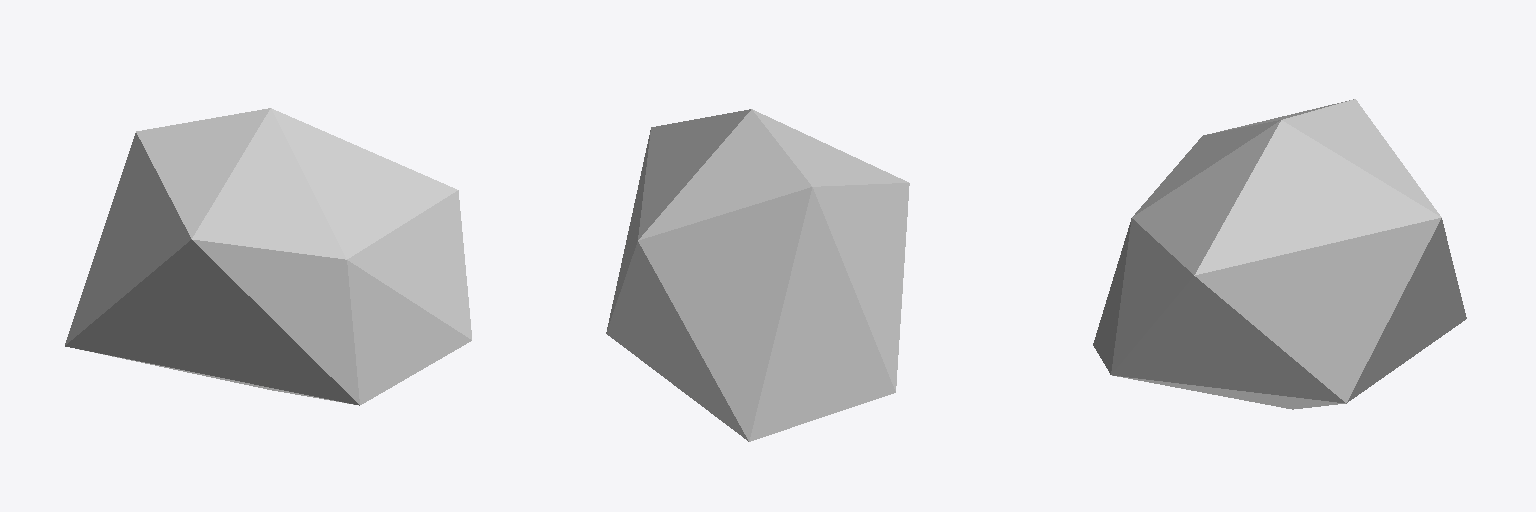
Rendered from rocksmall.obj.
3 renders of one model, left to right at view 1: azimuth 30°, elevation 25°; view 2: azimuth 150°, elevation 25°; view 3: azimuth 270°, elevation 25°, orthographic.
Visible parts, largest first — view 1: Icosphere_Icosphere.001; view 2: Icosphere_Icosphere.001; view 3: Icosphere_Icosphere.001.
Part boxes in pixels (left/top/right/bottom): Icosphere_Icosphere.001: left=65, top=108, right=471, bottom=405; Icosphere_Icosphere.001: left=606, top=109, right=909, bottom=441; Icosphere_Icosphere.001: left=1093, top=99, right=1466, bottom=409.
Bounding box in the file's own units: 0.8266 × 0.7103 × 0.8383.